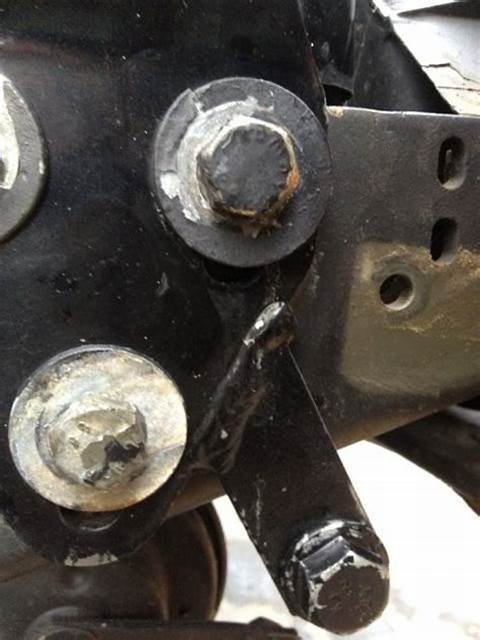bolt_a: (200, 114, 302, 225), (42, 393, 148, 493), (296, 536, 390, 636)
